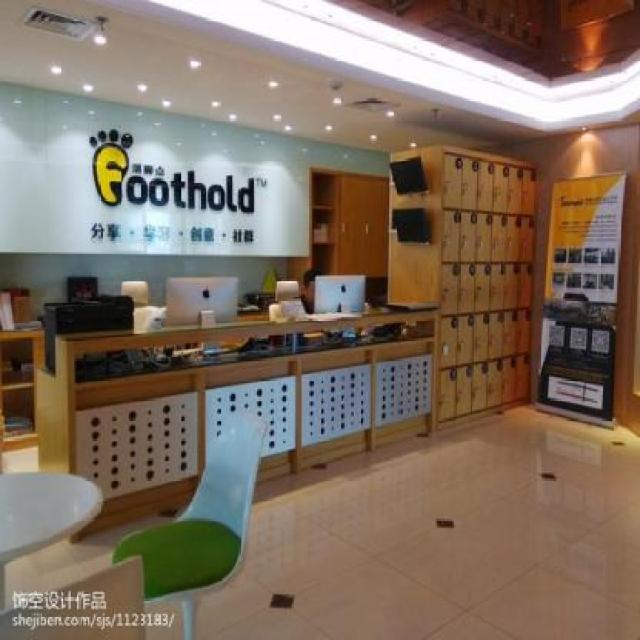frontdesk: (25, 290, 456, 532)
